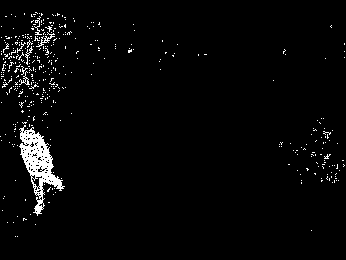person: (16, 126, 64, 218)
